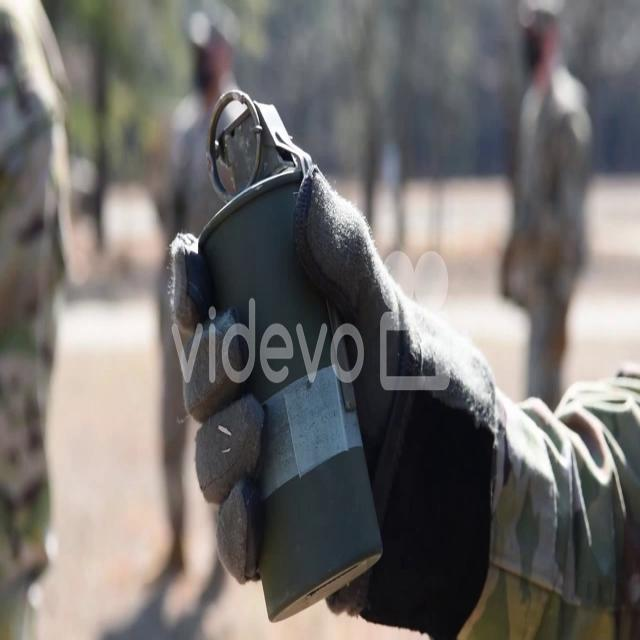grenade: (185, 78, 389, 621)
